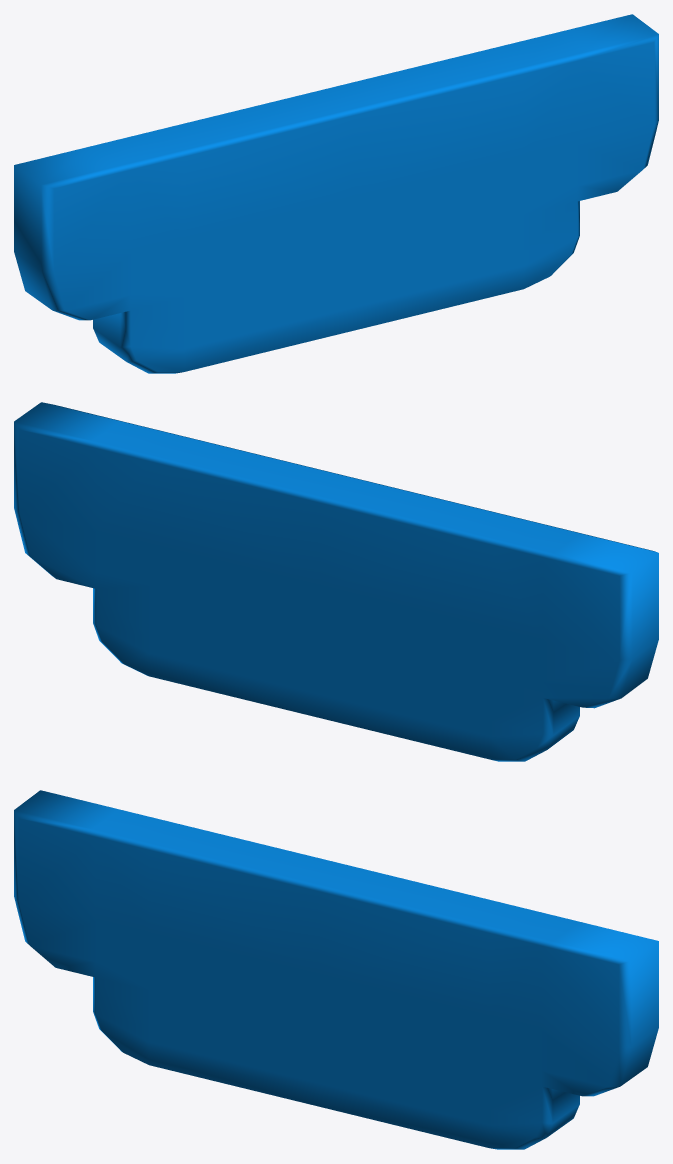
The model's file is Wood_Pillar_Up.fbx.
The picture shows the model from 3 angles, top to bottom: view 1: azimuth 30°, elevation 25°; view 2: azimuth 150°, elevation 25°; view 3: azimuth 330°, elevation 25°; orthographic projection.
Parts seen in each view (by area): view 1: Wood_Pillar_Up; view 2: Wood_Pillar_Up; view 3: Wood_Pillar_Up.
Part boxes in pixels (x1,y1,x2,y2): Wood_Pillar_Up: [14, 14, 658, 373]; Wood_Pillar_Up: [14, 402, 658, 761]; Wood_Pillar_Up: [14, 790, 658, 1149].
Bounding box in the file's own units: 194 × 66.4 × 18.62.
